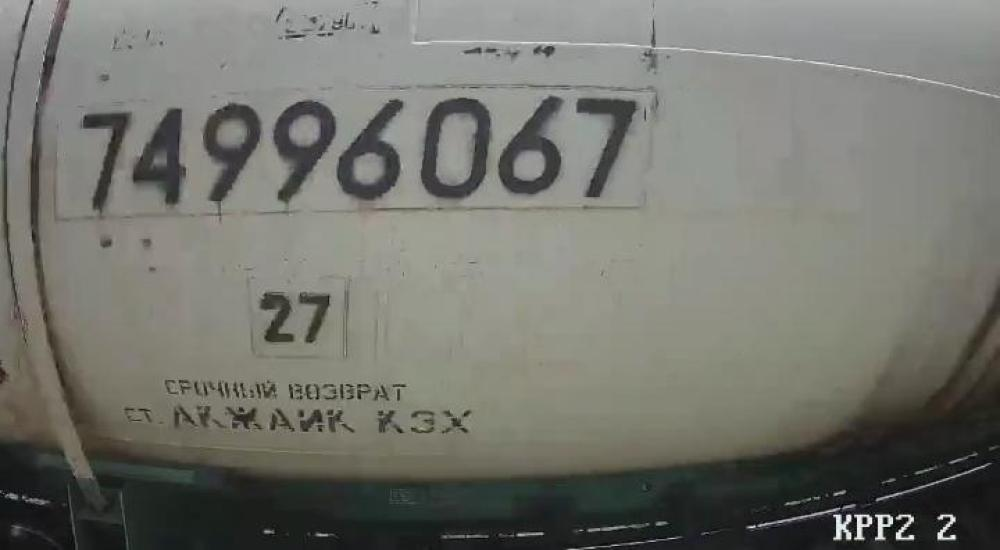Wagon-number: (70, 89, 648, 220)
